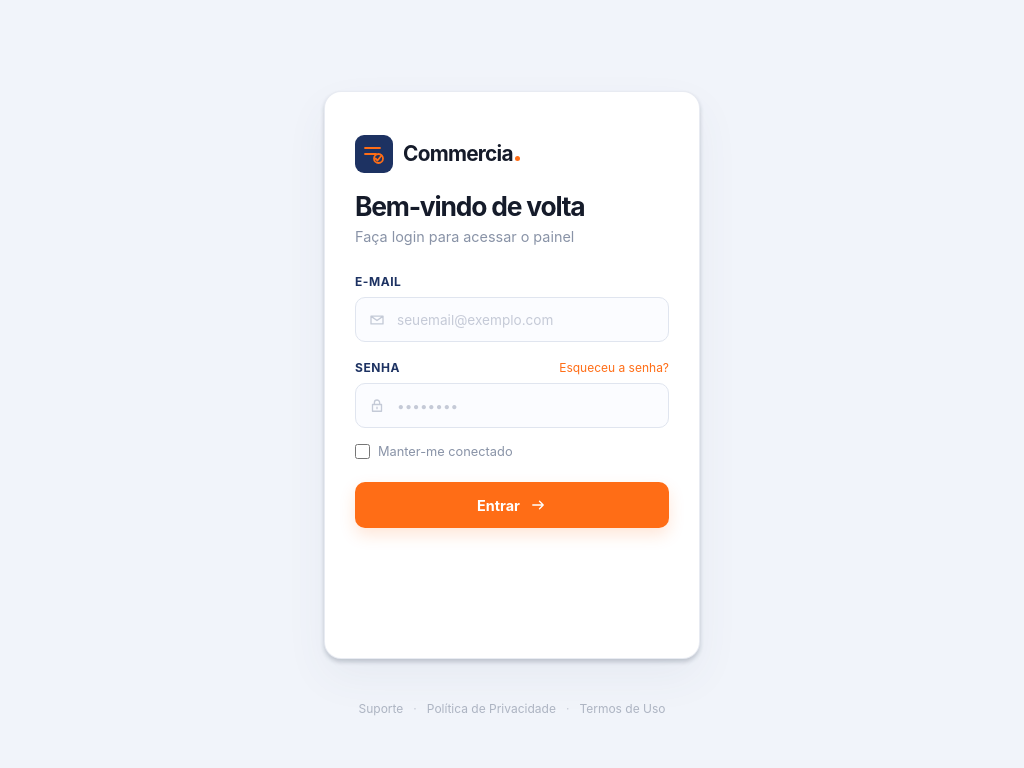
Test: retries a failed catalog refresh after deletion without sending another DELETE
Type "admin" into the field labelled "E-mail" at point(512, 320), box [355,297,669,342]
Type "secret" into the password field labelled "Senha" at point(512, 406), box [355,383,669,428]
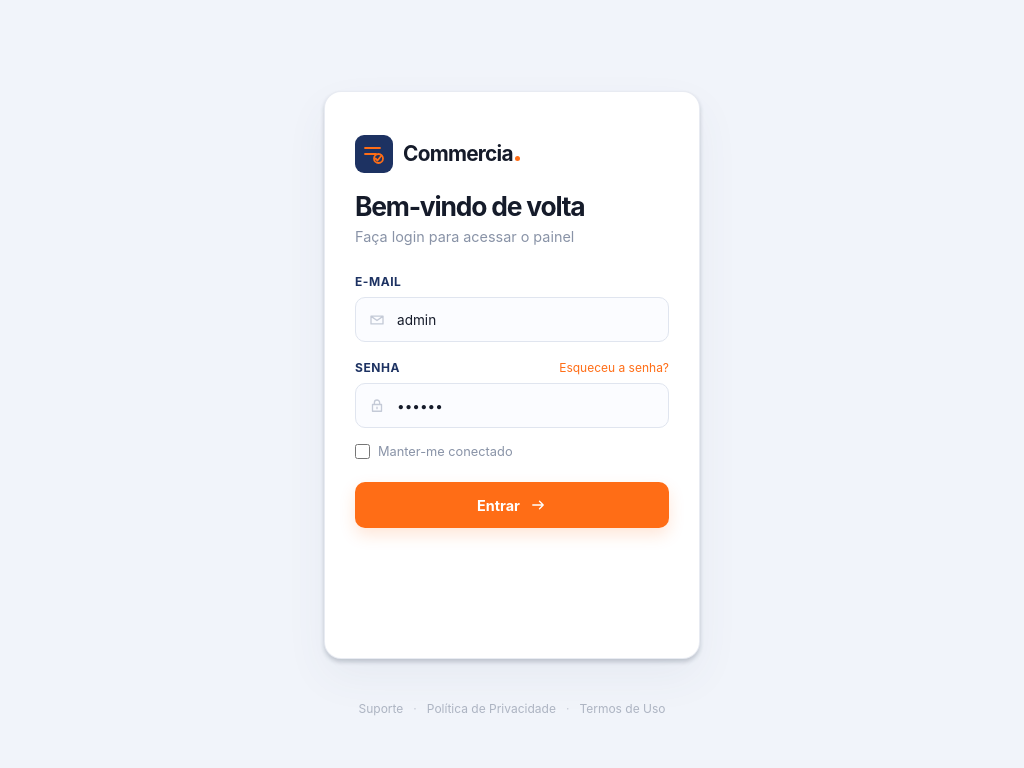
Submit the form "E-mail Senha Esqueceu a senha? Manter-me conectado Entrar", box [355,274,669,528]
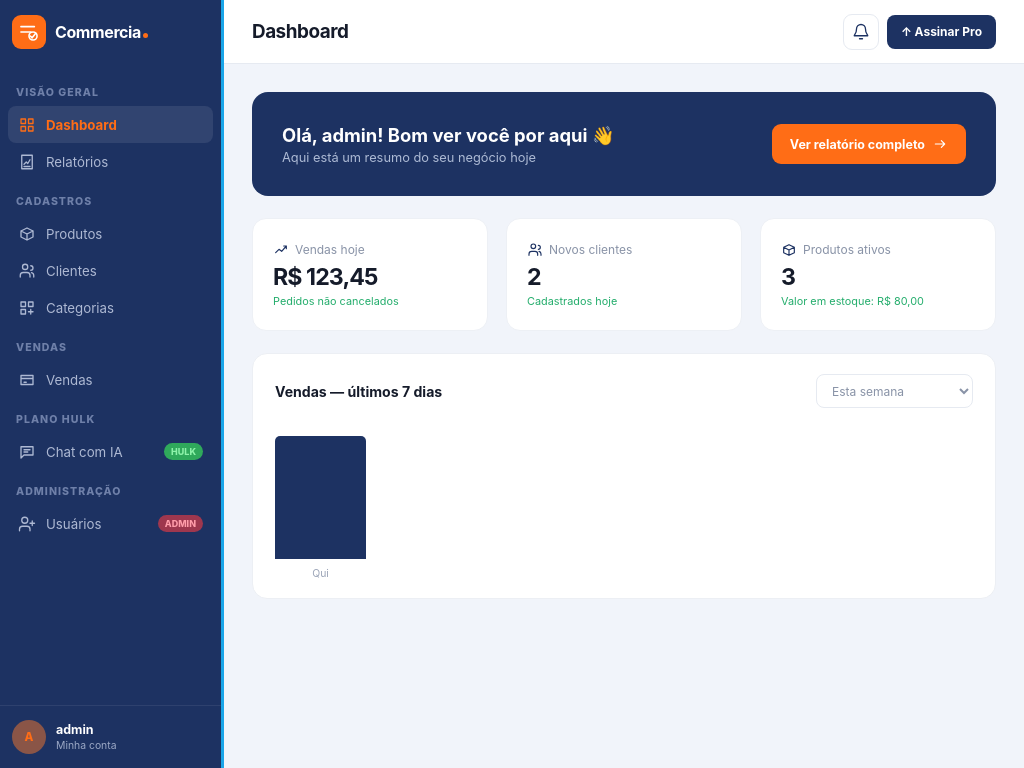
expect the heading "Dashboard" is shown: met, box [252,20,348,43]
Click the button "Produtos" at point(110, 234), box [8,215,213,252]
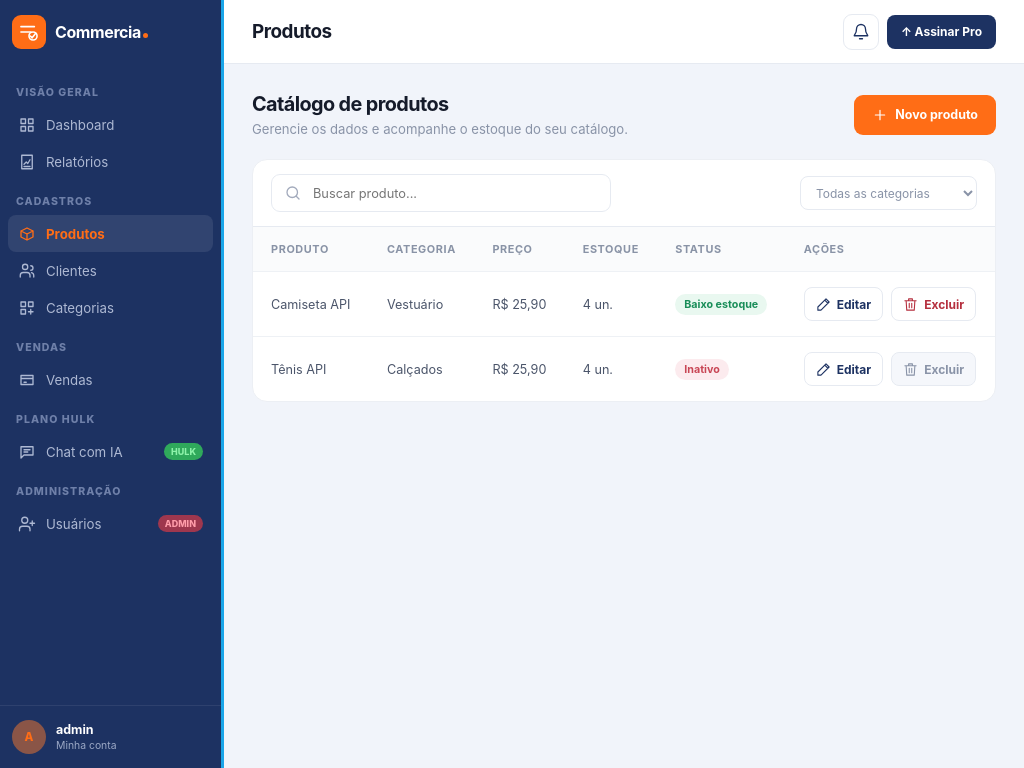
Click the button with aria-label "Excluir Camiseta API" at point(934, 304), box [891,287,976,321]
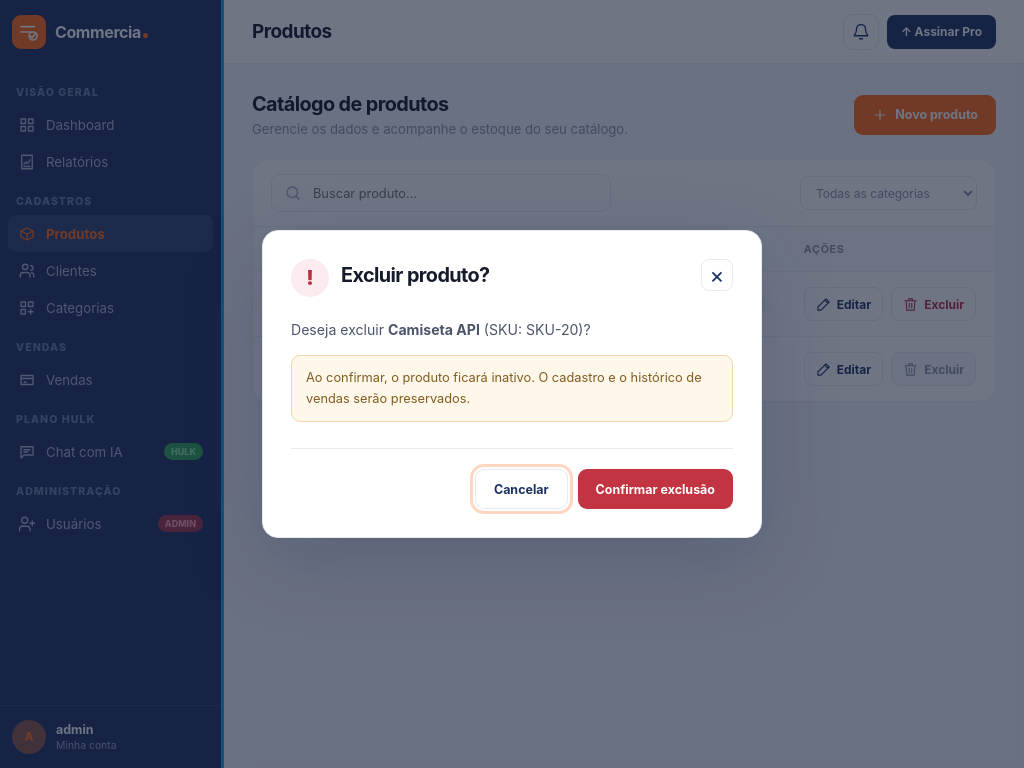
Click the button "Confirmar exclusão" at point(655, 489), box [578,469,733,509]
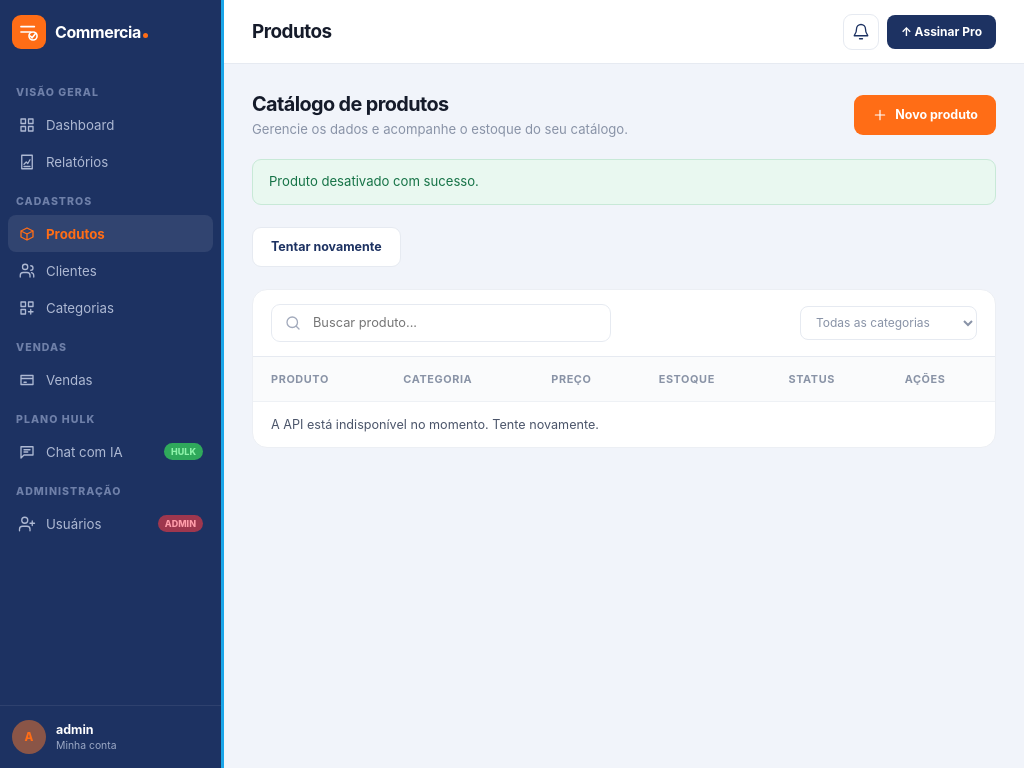
expect the message "A API está indisponível no momento. Tente novamente." is shown: met, box [253,401,995,447]
expect the text "Produto desativado com sucesso." is shown: met, box [252,159,996,205]
expect the dialog is gone: met
Click the button "Tentar novamente" at point(326, 247), box [252,227,401,267]
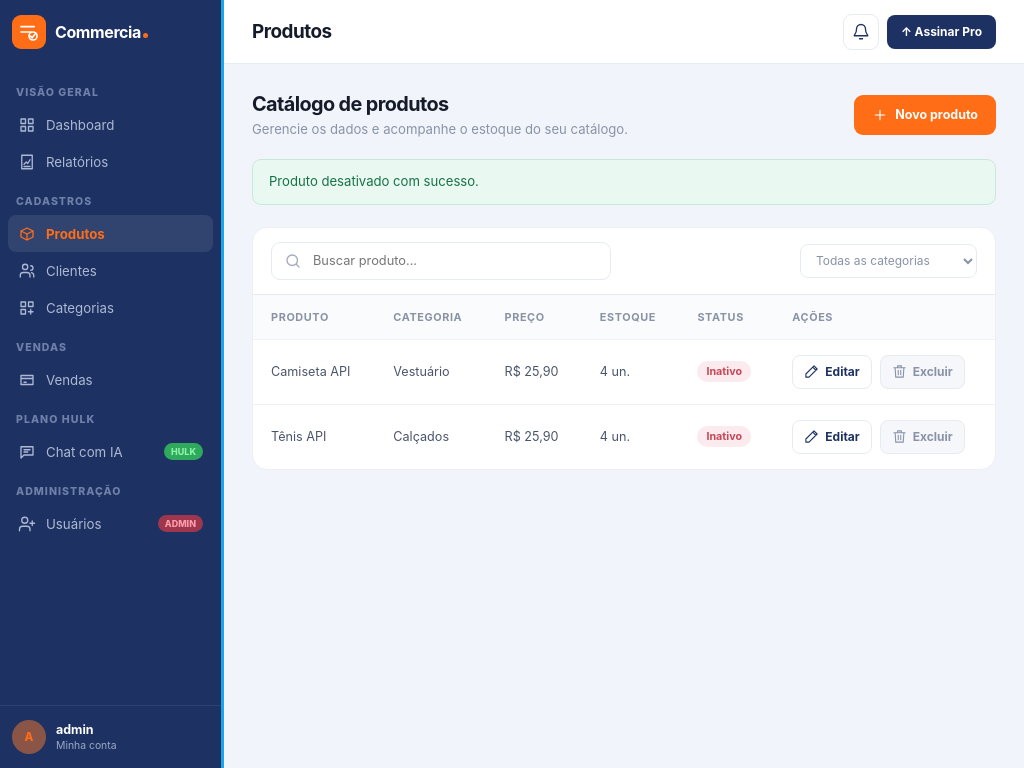
expect the text "Inativo" in the row of "Camiseta API" is shown: met, box [706,365,742,378]
